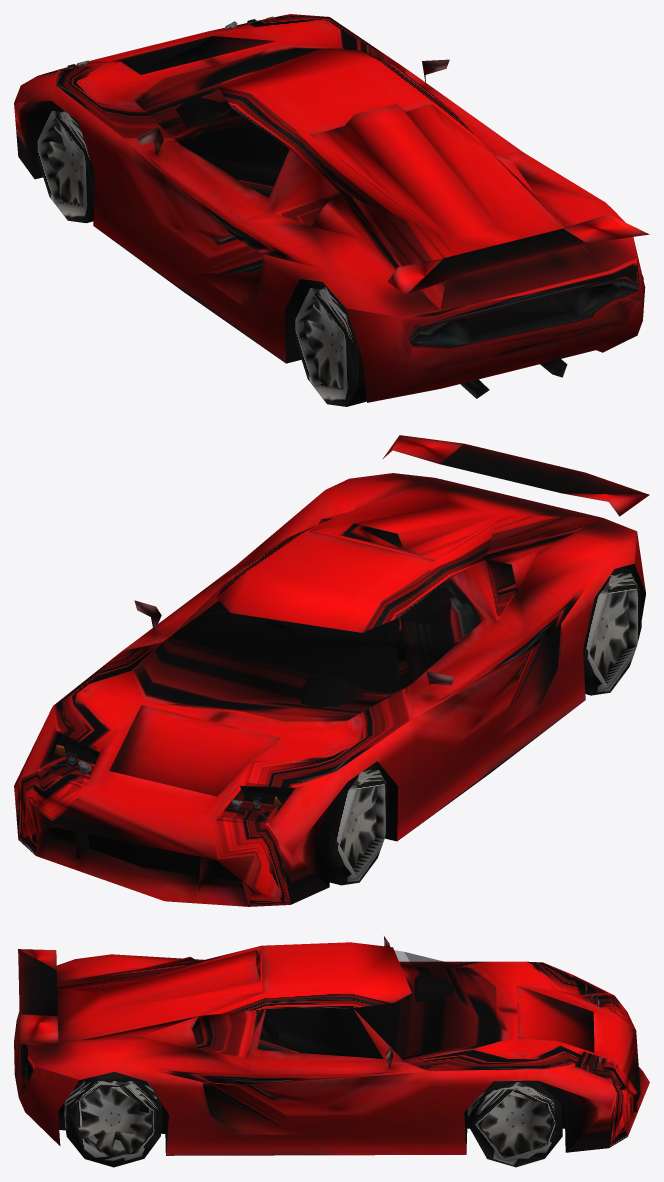
File: c_sport_lo.glb
3 renders of one model, top to bottom at view 1: azimuth 30°, elevation 25°; view 2: azimuth 150°, elevation 25°; view 3: azimuth 270°, elevation 25°, orthographic. The views are drawn at different scales.
Visible parts, largest first — view 1: body|Body_6, body|Wheel_5, body|glass; view 2: body|Body_6, body|glass, body|Wheel_5; view 3: body|Body_6, body|glass, body|Wheel_5.
Part boxes in pixels (x1,y1,x2,y2): body|Body_6: [14, 14, 649, 402]; body|Wheel_5: [37, 105, 643, 406]; body|glass: [47, 19, 342, 197]; body|Body_6: [14, 435, 649, 906]; body|glass: [40, 578, 484, 822]; body|Wheel_5: [329, 567, 641, 885]; body|Body_6: [14, 936, 649, 1155]; body|glass: [258, 950, 617, 1079]; body|Wheel_5: [64, 1071, 562, 1167].
Size of the model in its own units: 1.76 by 1.04 by 3.88.
4 materials, 3 textured.
